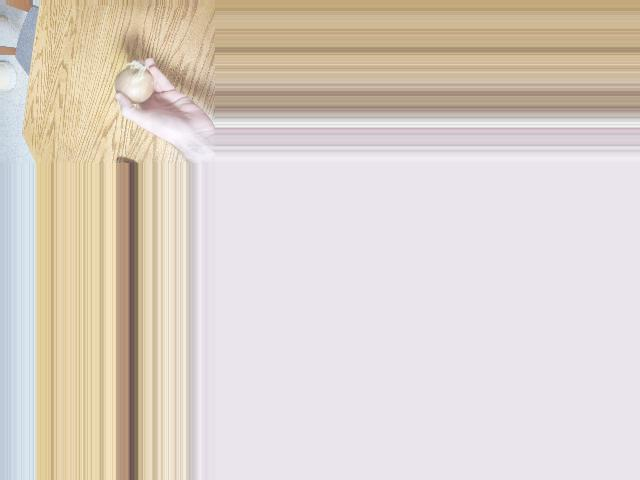onion: (114, 68, 157, 104)
